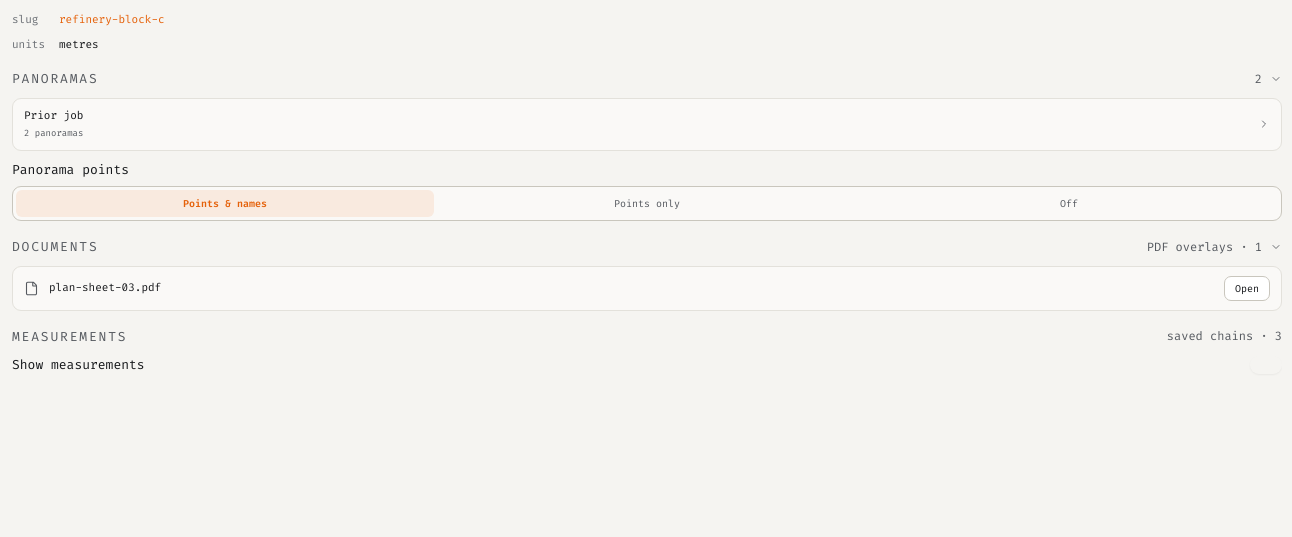
Test: ViewTab › lists the panoramas under their job phase, as the tour's picker
The width and height of the screenshot is (1292, 537).
Click the button "Prior job 2 panoramas" at (54, 115), box 13,98 -> 1281,150
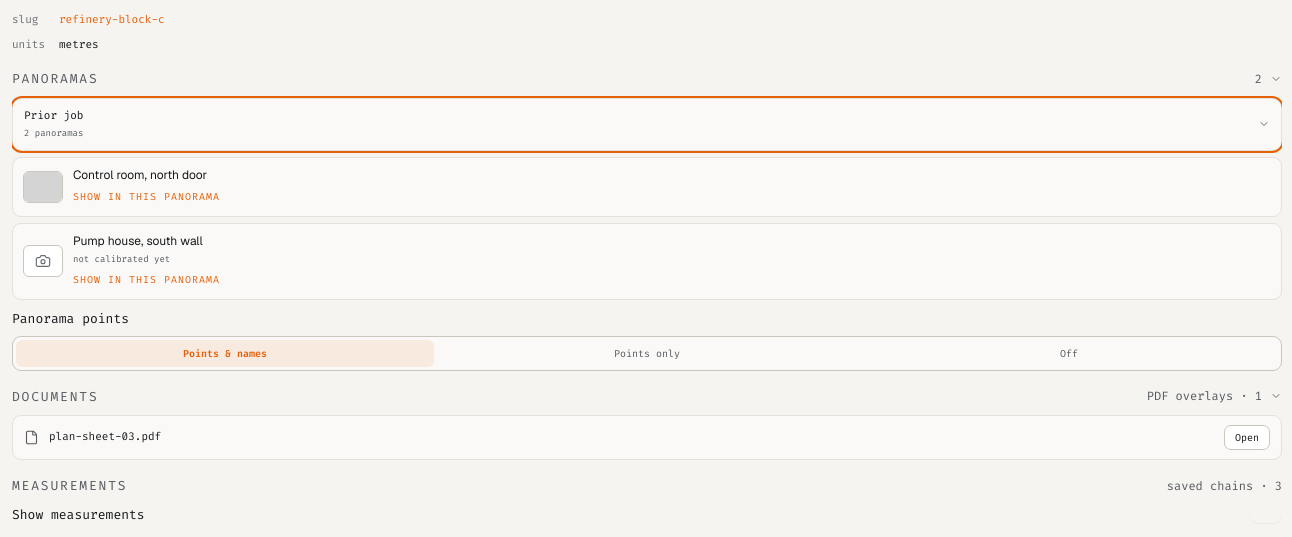
Expected: the number of buttons named "Show in this panorama: " is 2, 73,188 -> 220,204; 73,272 -> 220,287
Expected: the text "Control room, north door" is shown, 73,166 -> 207,182
